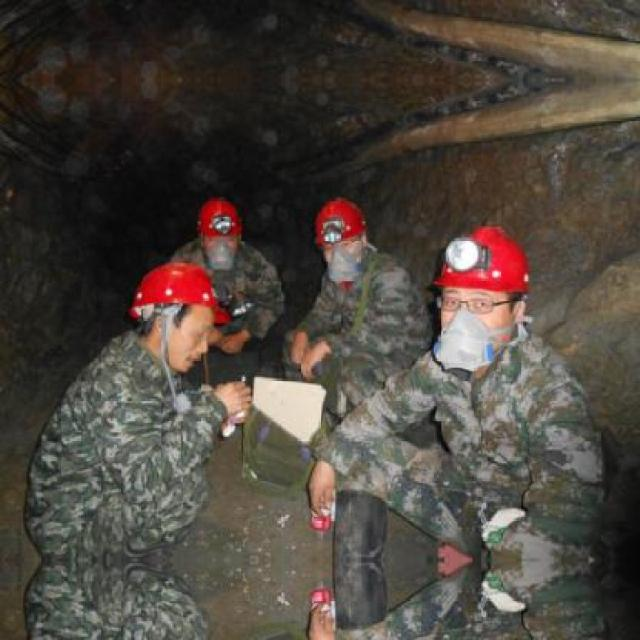helmet: (439, 227, 533, 342), (130, 258, 227, 360), (312, 194, 372, 277), (192, 191, 242, 264)
